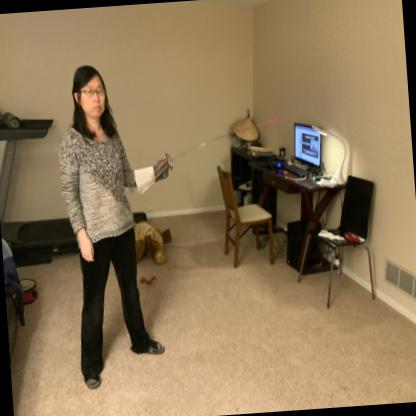foil-tip: (272, 107, 288, 136)
hand-and-foil: (128, 102, 298, 198)
